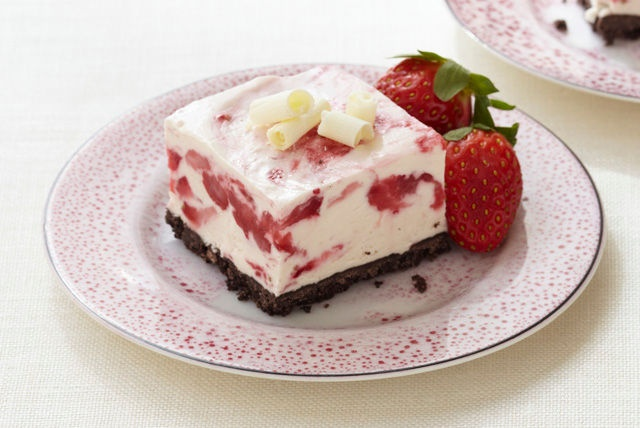background: (163, 32, 523, 211), (61, 0, 639, 29)
